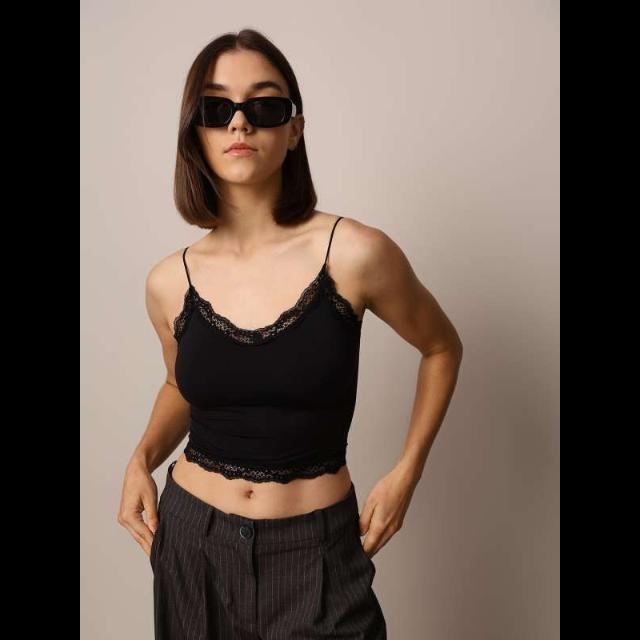top: (175, 245, 355, 481)
